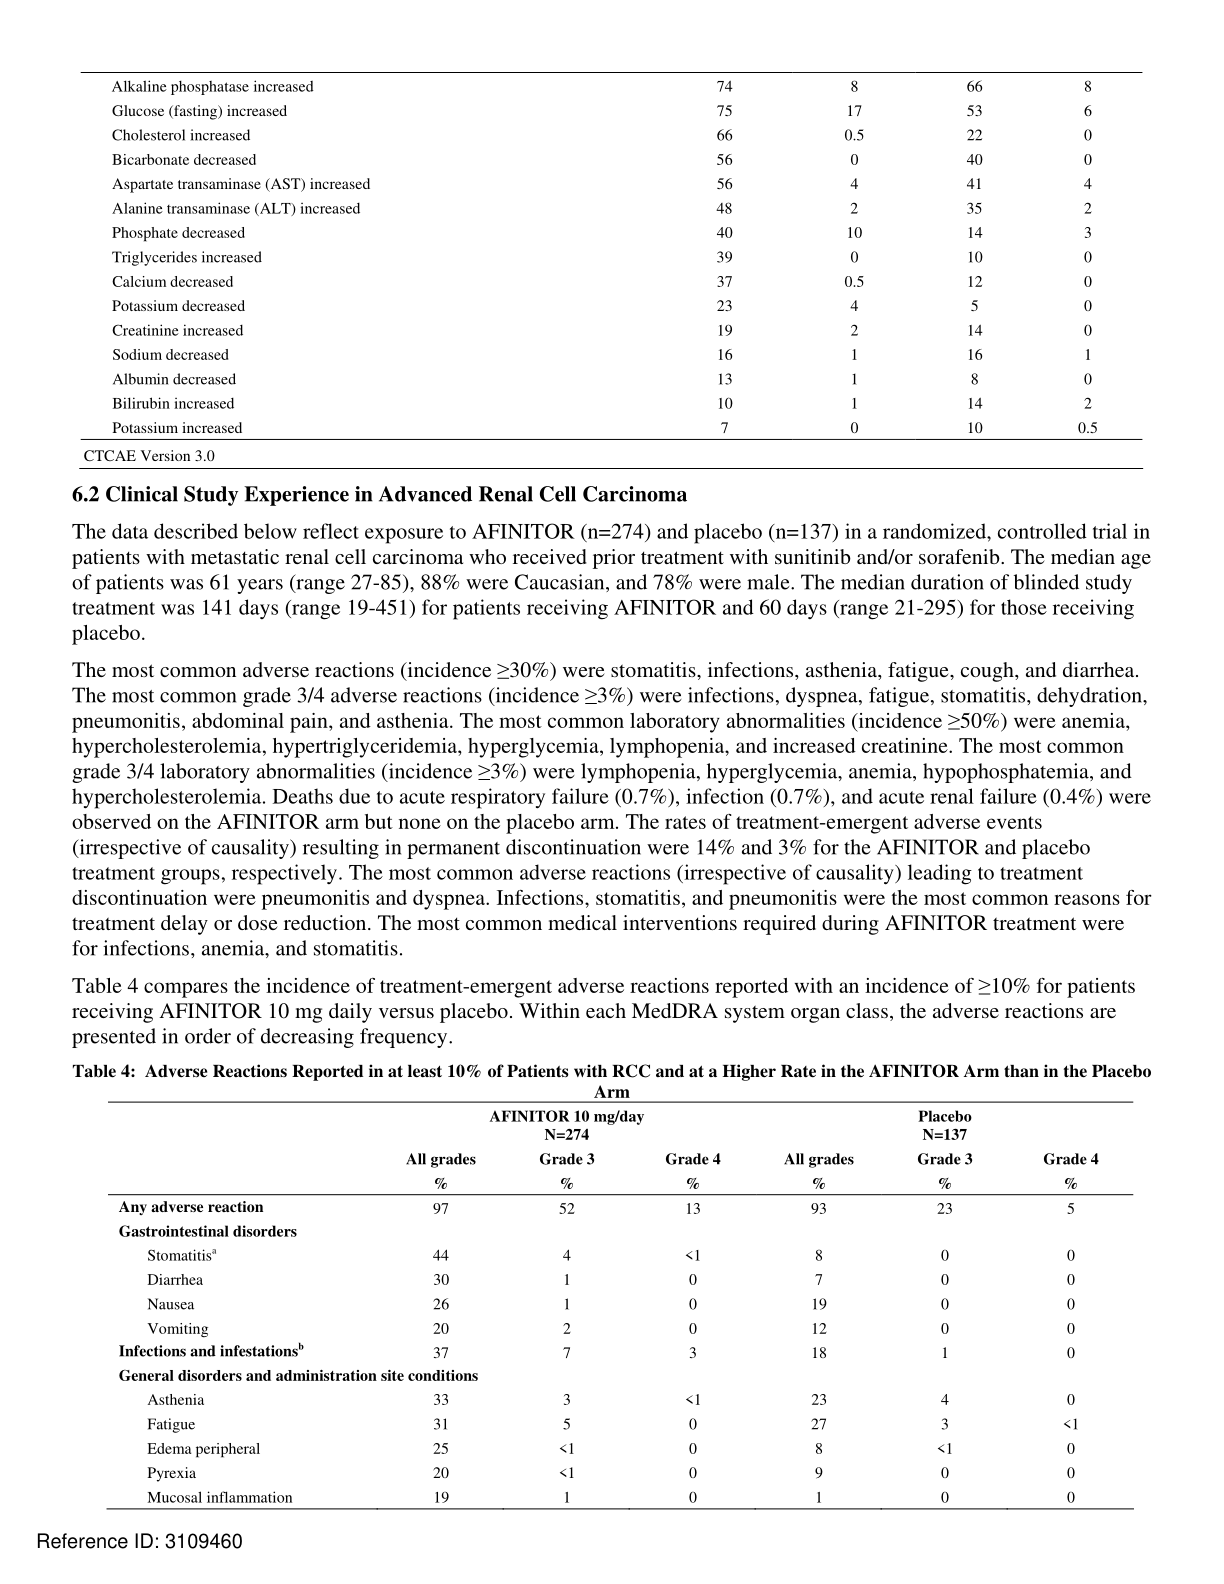partial_lined_merged_cells: (102, 1098, 1139, 1513), (78, 69, 1144, 471)
